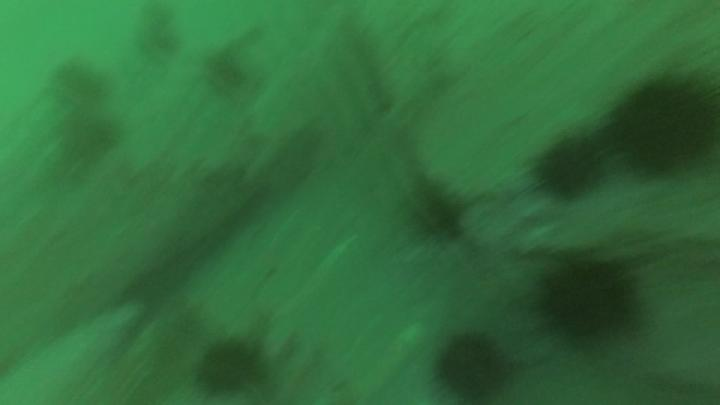echinus: (581, 59, 720, 189), (519, 243, 654, 358), (507, 125, 608, 208), (427, 321, 523, 405), (190, 331, 275, 403), (398, 176, 476, 248)
